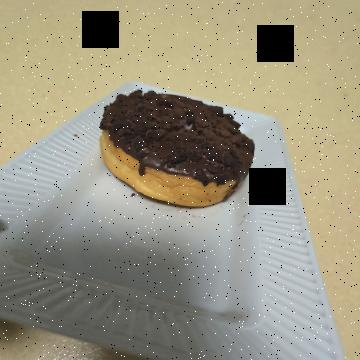doughnut: (70, 99, 228, 296)
